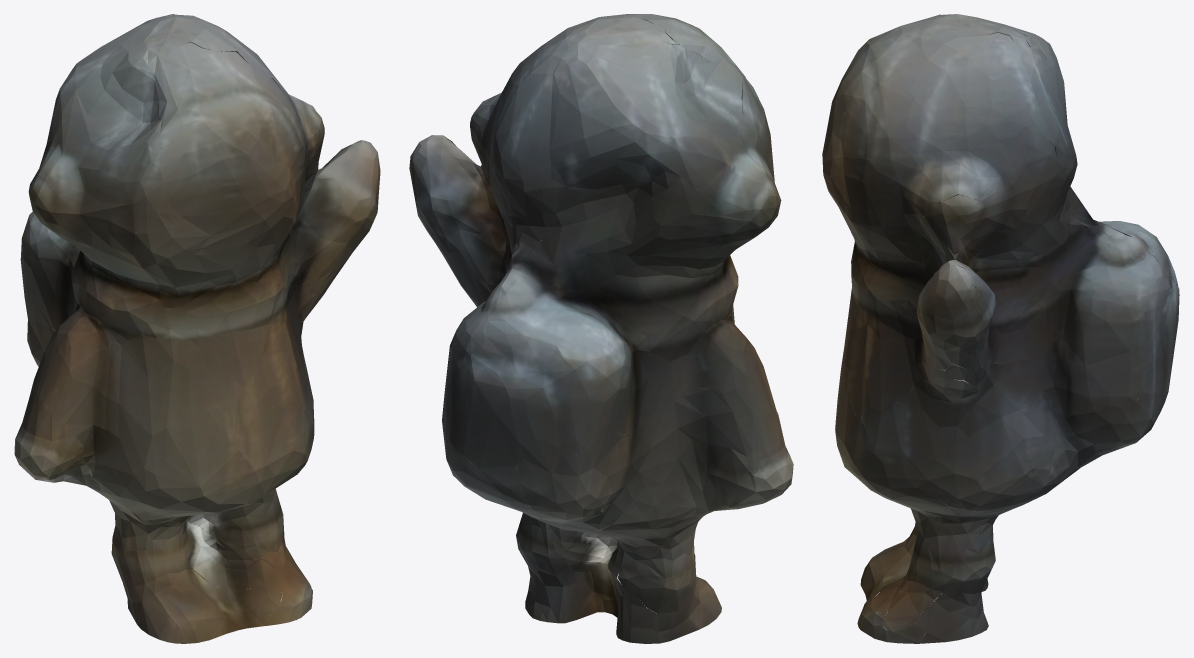
Rendered from Astronaut Bake.glb.
3 views of the same model, side by side, from view 1: azimuth 30°, elevation 25°; view 2: azimuth 150°, elevation 25°; view 3: azimuth 270°, elevation 25° (orthographic). The views are drawn at different scales.
Parts seen in each view (by area): view 1: Mesh_0; view 2: Mesh_0; view 3: Mesh_0.
Boxes of the visible parts, <box> form: Mesh_0: <box>14,14,380,643</box>; Mesh_0: <box>409,14,793,643</box>; Mesh_0: <box>822,14,1179,643</box>.
Size of the model in its own units: 0.2299 by 0.348 by 0.1973.
Materials: 1 (1 with a texture image).
